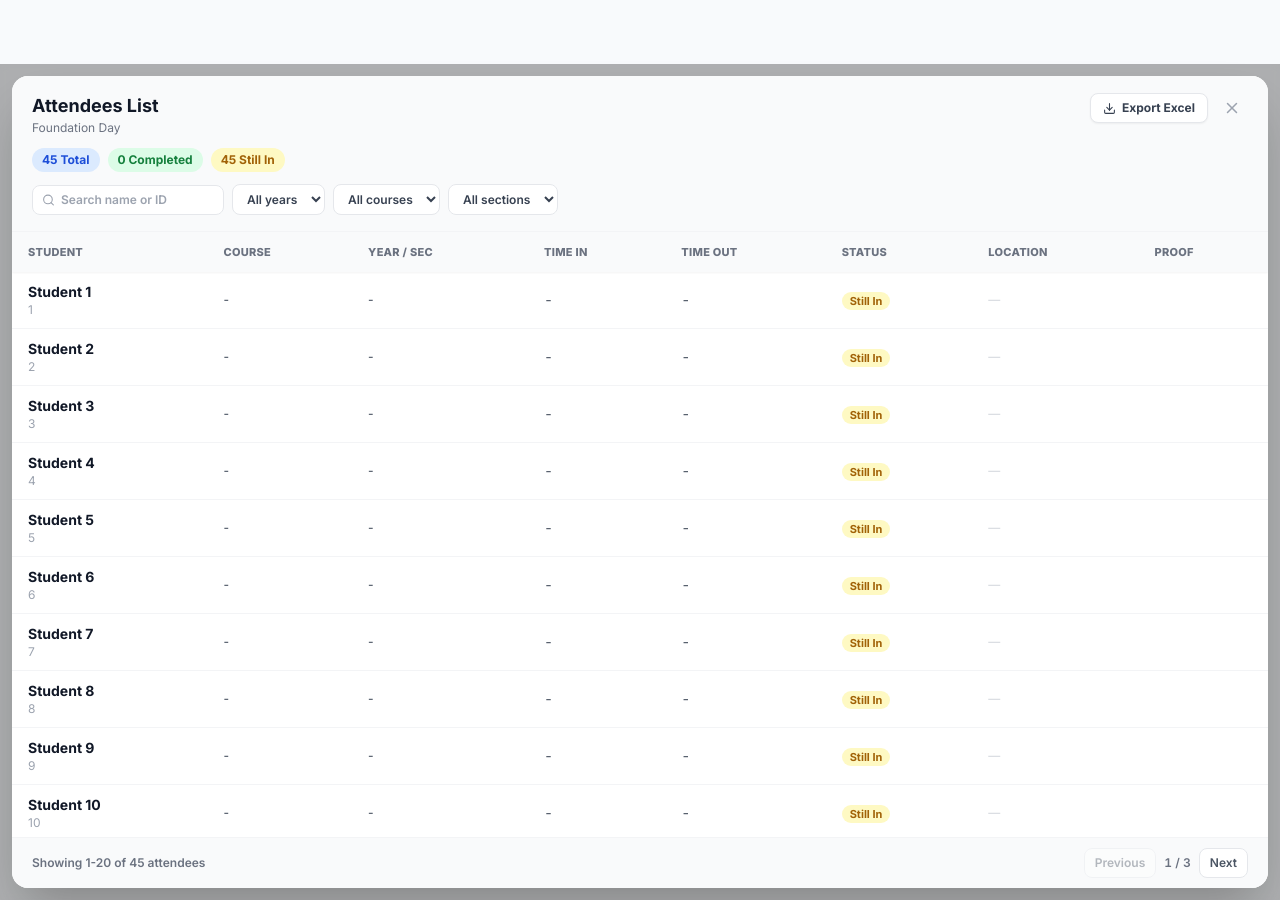
DeptEventAttendeesModal › shows at most 20 attendees per page
The image size is (1280, 900).
Check: the text "Showing 1-20 of 45 attendees" is shown, box [32,855,205,871]
Check: the text "Student 21" is not shown
Click the button with aria-label "Next page".
click(1223, 863)  # box [1199,848,1248,878]
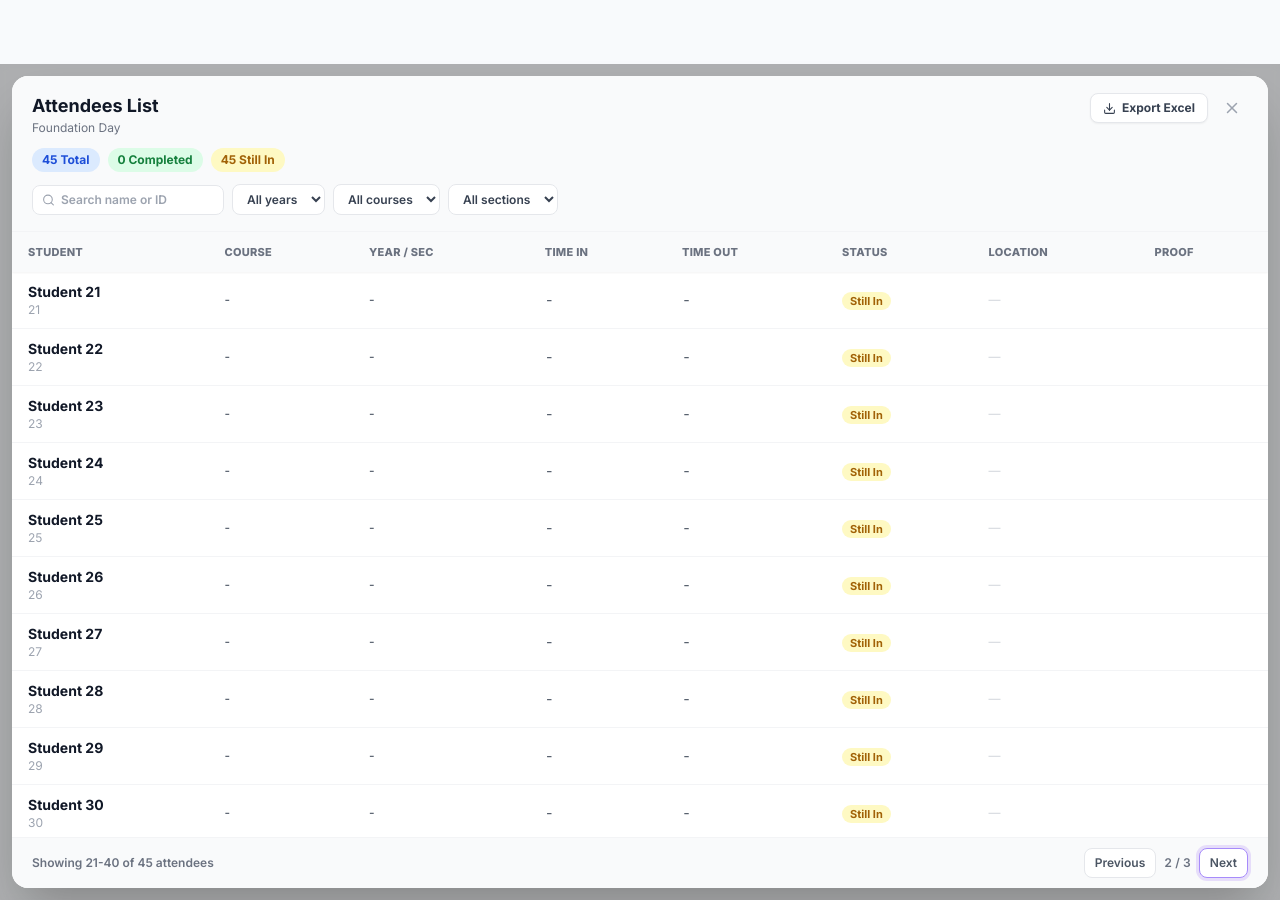
Check: the text "Showing 21-40 of 45 attendees" is shown, box [32,855,214,871]
Check: the text "Student 21" is shown, box [28,283,100,300]
